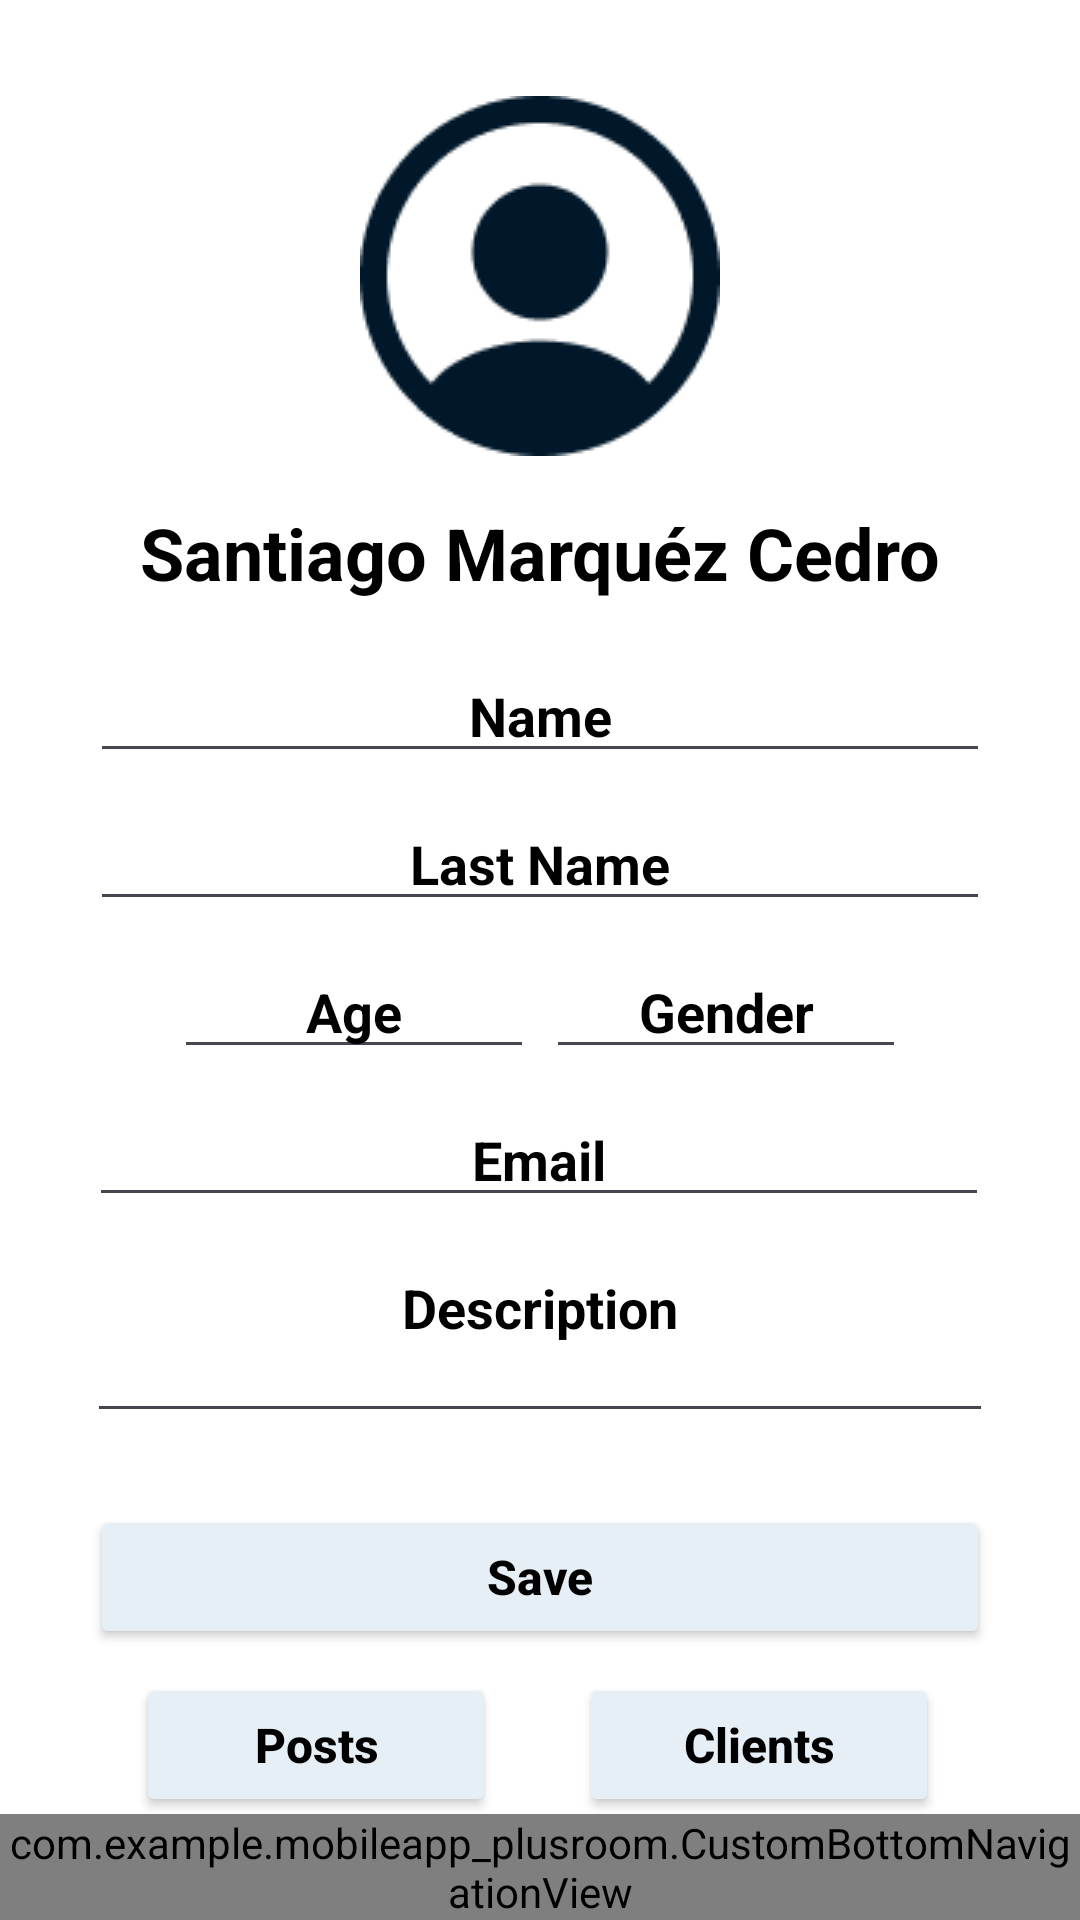

Icon bounding boxes for this 1080w x 1920h phone screenshot, format BBox(x1, y1, x2, y2):
profile circle: BBox(360, 96, 720, 456)
